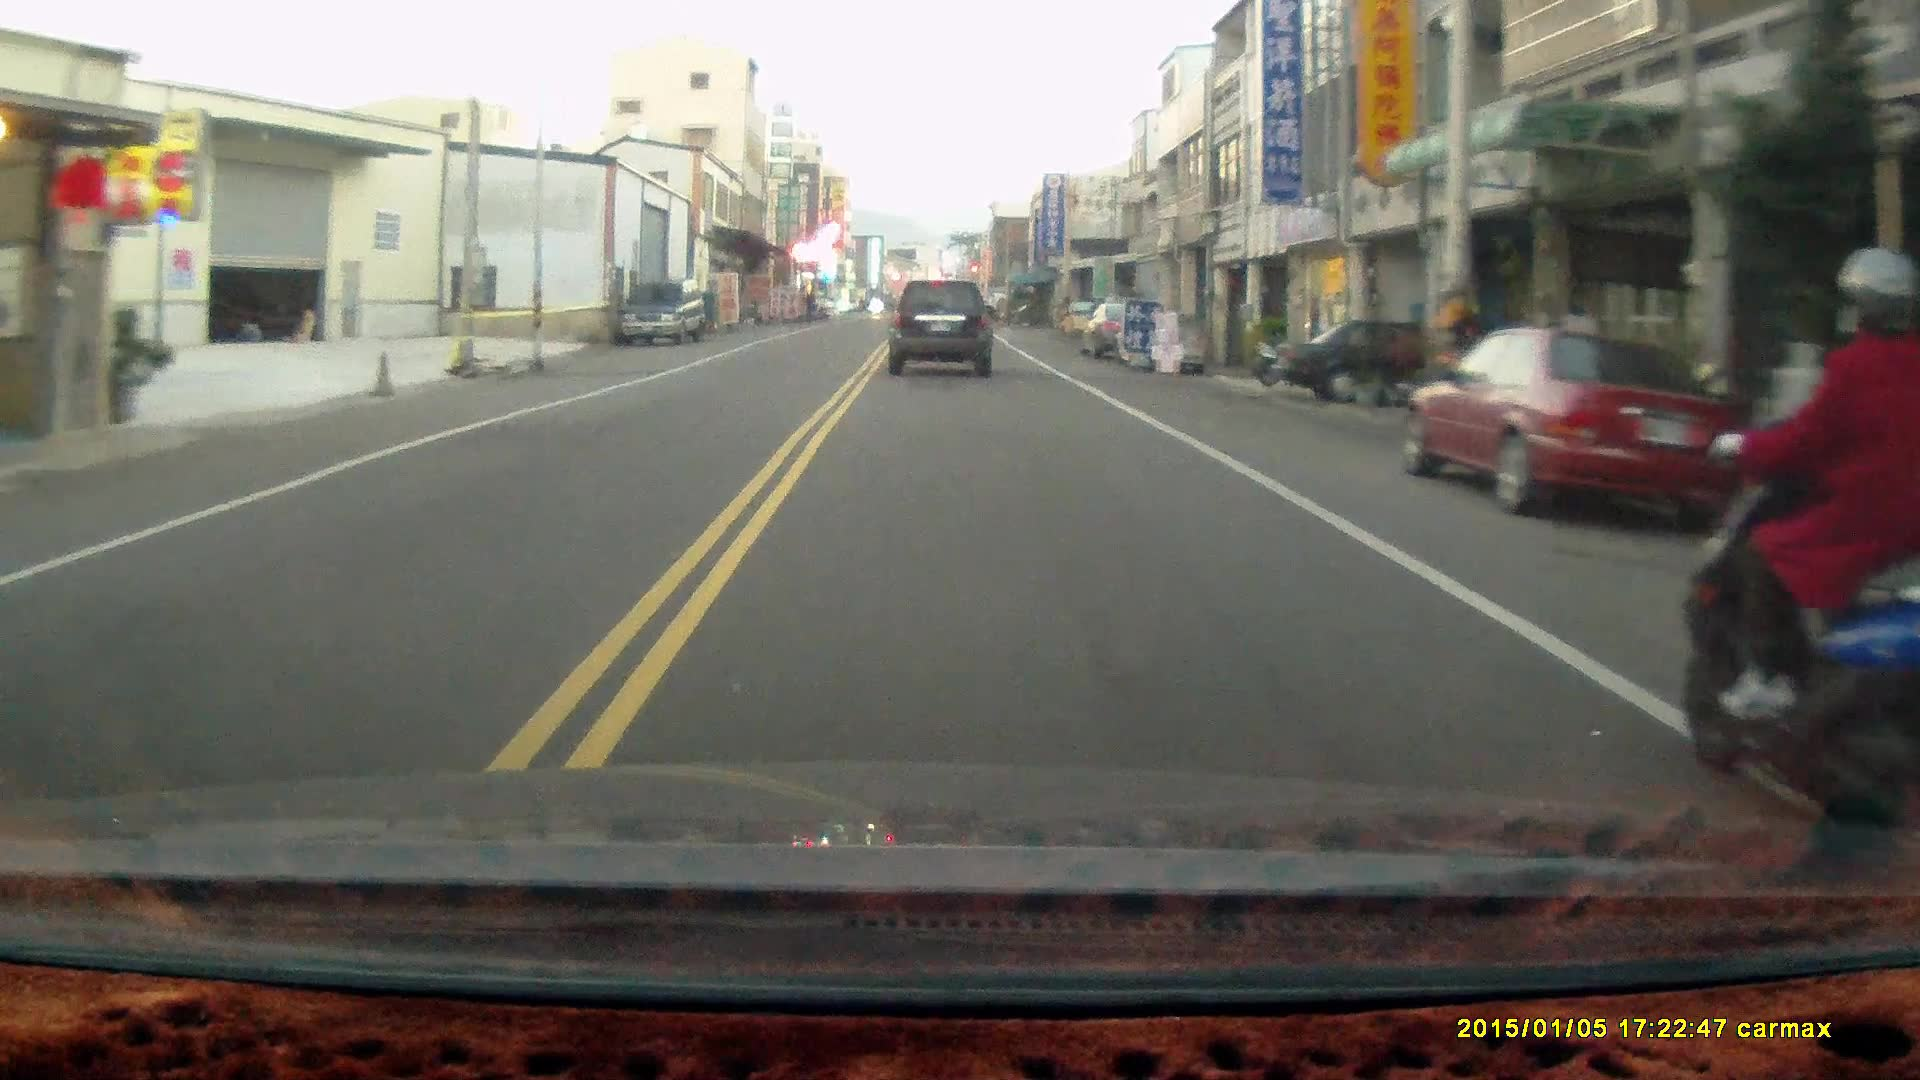rider: (1683, 249, 1913, 834)
vehicle: (1403, 324, 1763, 529), (1258, 310, 1508, 398), (888, 279, 997, 381), (612, 281, 711, 349)
